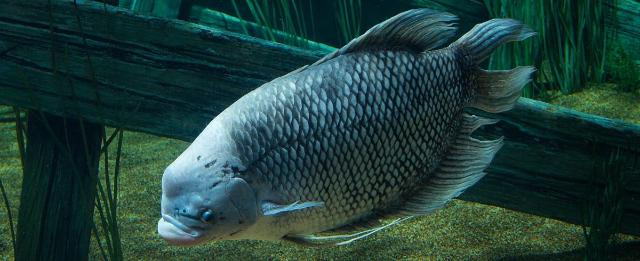Mulut: (140, 198, 210, 251)
Sirip Anal: (374, 110, 516, 226)
Sirip Dada: (246, 187, 342, 227)
Sirip Ekor: (453, 10, 542, 122)
Sirip Punggung: (293, 2, 465, 74)
